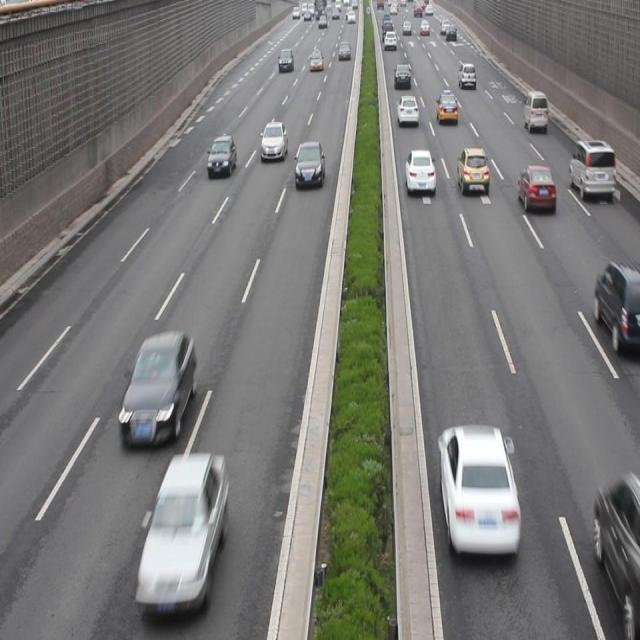car: (134, 453, 229, 610), (437, 422, 519, 556), (120, 333, 194, 443), (594, 256, 640, 350), (569, 137, 614, 201), (516, 164, 555, 212), (456, 146, 488, 198), (404, 148, 435, 198), (293, 142, 324, 187), (206, 135, 236, 176), (260, 121, 287, 162)
truck: (523, 90, 545, 132)
